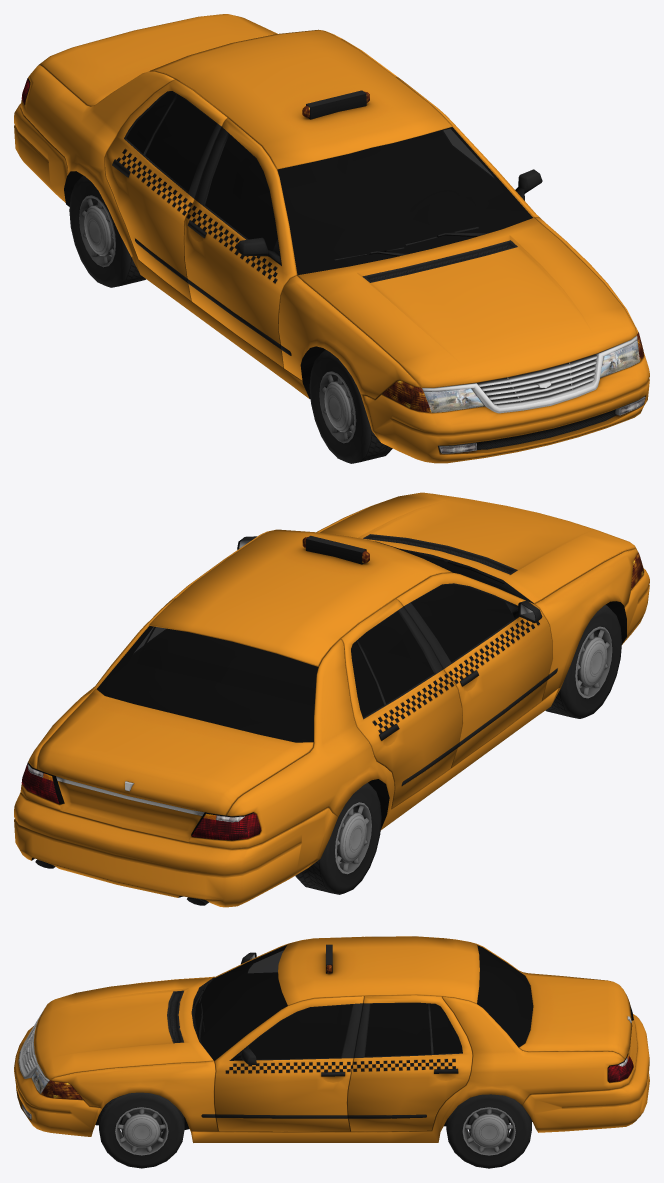
The model's file is veicolo_taxi.glb.
3 renders of one model, top to bottom at view 1: azimuth 30°, elevation 25°; view 2: azimuth 150°, elevation 25°; view 3: azimuth 270°, elevation 25°, orthographic. The views are drawn at different scales.
Parts seen in each view (by area): view 1: sb_modello; view 2: sb_modello; view 3: sb_modello.
Part boxes in pixels (bbox=[...]): sb_modello: bbox=[14, 14, 649, 463]; sb_modello: bbox=[14, 492, 649, 907]; sb_modello: bbox=[14, 936, 649, 1168].
Bounding box in the file's own units: 2 × 1.5 × 5.09.
3 materials, 3 textured.
